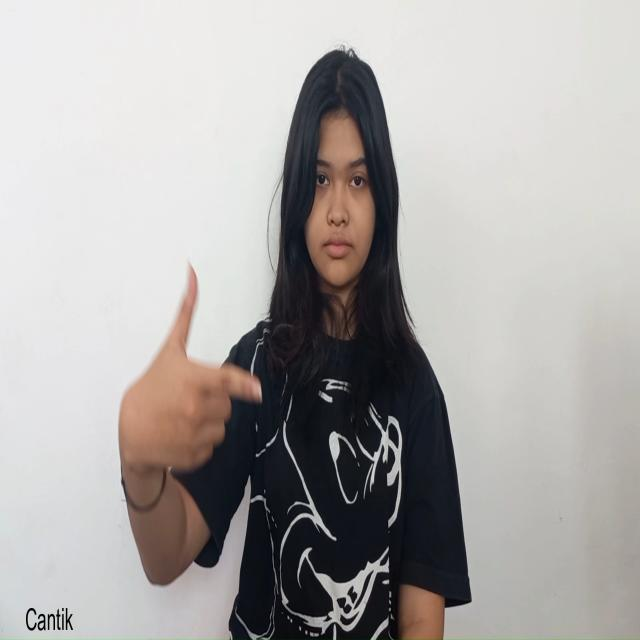Cantik -BISINDO-: (117, 258, 263, 517)
